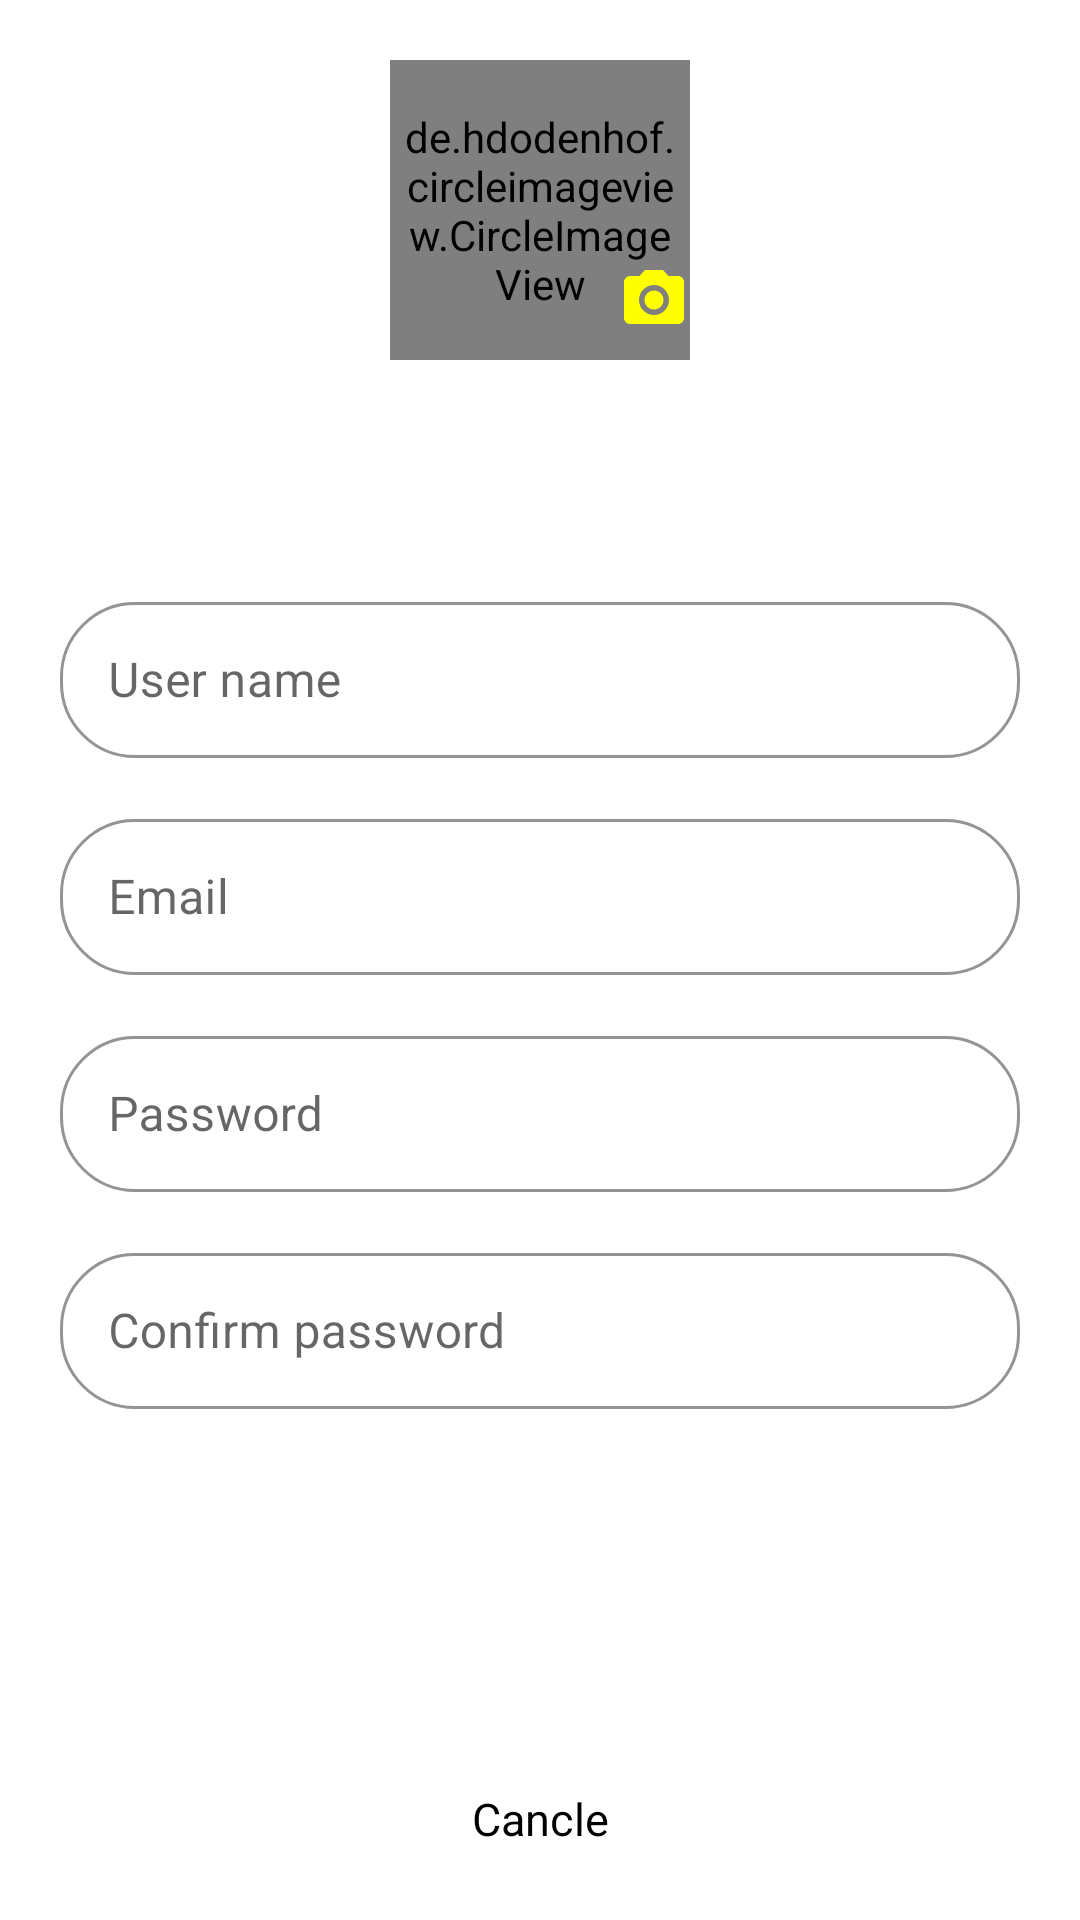

Screen size 1080 × 1920. Icon name, then its box in pixels as (x1, y1, x2, y2):
camera: (624, 270, 684, 324)
